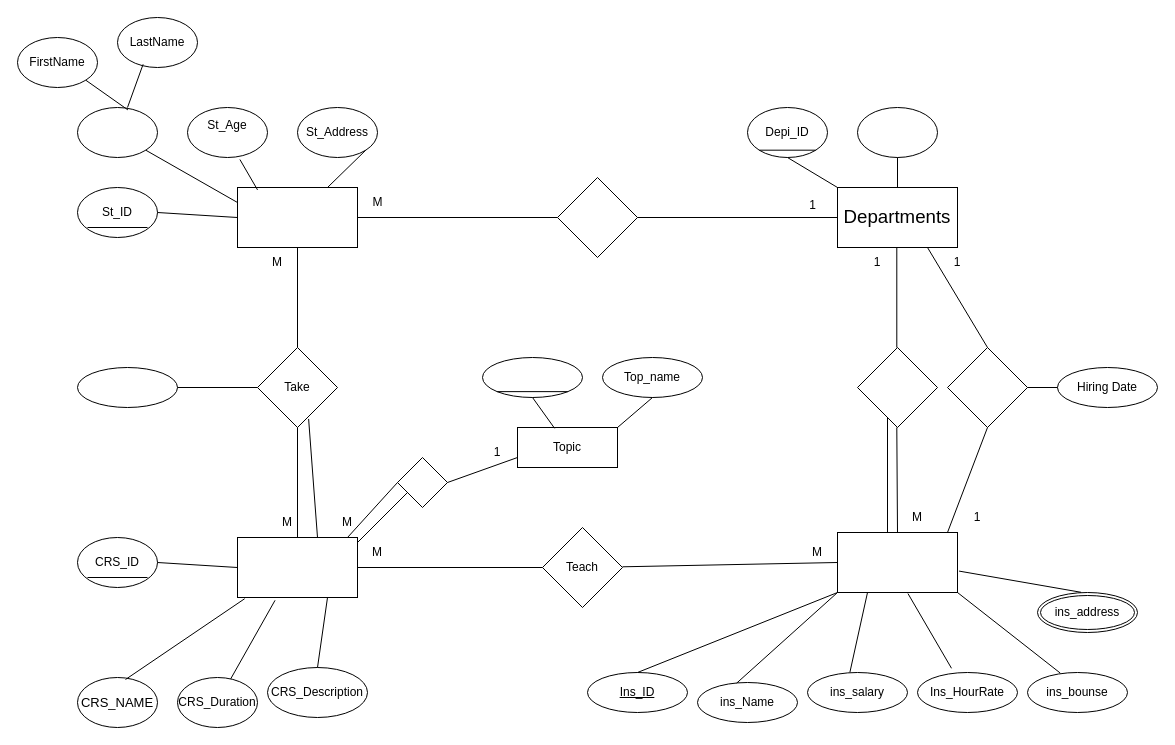
The diagram is 1175 pixels wide and 745 high, and some of its shapes have lost their labels. Each missing label, with the centre of its shape:
Be: the point at 597,217
Courses: the point at 297,567
Dep_Name: the point at 897,132
Grades: the point at 127,387
Have: the point at 422,482
Instructor: the point at 897,562
Manage: the point at 987,387
StudentName: the point at 117,132
Students: the point at 297,217
Top_ID: the point at 532,377
Work: the point at 897,387
